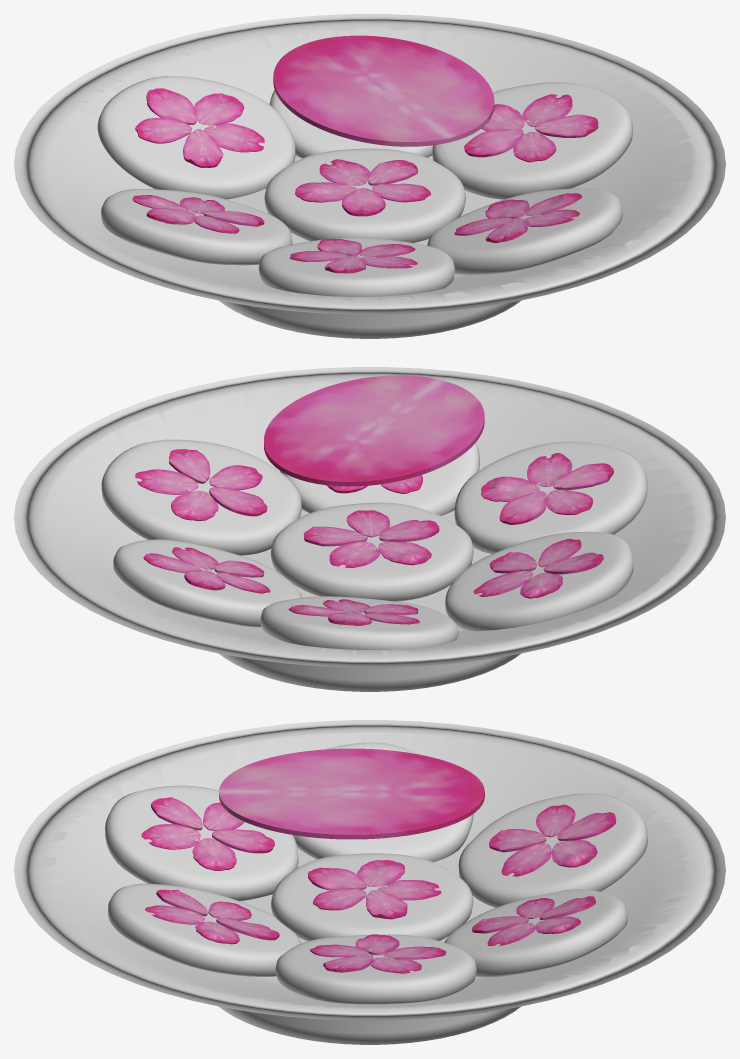
File: Jindallaejeon.fbx
3 renders of one model, top to bottom at view 1: azimuth 30°, elevation 25°; view 2: azimuth 150°, elevation 25°; view 3: azimuth 270°, elevation 25°, orthographic.
Parts seen in each view (by area): view 1: 원통 2, 원통 1, 원통 25, 원통 (×2), 원통 7, 원통 31, 원통 13, 원통 19, 원통 37, 원통 27, 원통 30, 원통 29 (+23 smaller); view 2: 원통 2, 원통 1, 원통 (×2), 원통 7, 원통 19, 원통 13, 원통 37, 원통 25, 원통 31, 원통 12, 원통 21, 원통 11 (+21 smaller); view 3: 원통 2, 원통 1, 원통 (×2), 원통 25, 원통 19, 원통 31, 원통 7, 원통 37, 원통 13, 원통 24, 원통 21, 원통 23 (+26 smaller).
Part boxes in pixels (box(x1,y1,x2,y2)): 원통 2: box(14, 14, 725, 338); 원통 1: box(273, 35, 494, 146); 원통 25: box(97, 76, 295, 199); 원통 (×2): box(264, 148, 465, 242); 원통 7: box(432, 82, 632, 199); 원통 31: box(427, 188, 622, 274); 원통 13: box(101, 189, 292, 265); 원통 19: box(258, 237, 455, 296); 원통 37: box(269, 90, 432, 158); 원통 27: box(146, 88, 196, 124); 원통 30: box(204, 123, 264, 152); 원통 29: box(194, 93, 244, 125); 원통 2: box(14, 367, 725, 691); 원통 1: box(264, 375, 484, 486); 원통 (×2): box(270, 502, 473, 601); 원통 7: box(101, 439, 301, 555); 원통 19: box(454, 441, 647, 553); 원통 13: box(445, 531, 633, 631); 원통 37: box(113, 539, 302, 627); 원통 25: box(260, 596, 458, 649); 원통 31: box(280, 442, 479, 515); 원통 12: box(135, 469, 198, 494); 원통 21: box(499, 491, 546, 524); 원통 11: box(171, 491, 218, 520); 원통 2: box(14, 720, 725, 1044); 원통 1: box(219, 748, 484, 839); 원통 (×2): box(271, 853, 473, 941); 원통 25: box(458, 793, 647, 907); 원통 19: box(105, 785, 298, 901); 원통 31: box(108, 883, 300, 976); 원통 7: box(275, 934, 476, 1004); 원통 37: box(444, 889, 627, 977); 원통 13: box(293, 742, 473, 862); 원통 24: box(141, 824, 200, 849); 원통 21: box(212, 829, 274, 853); 원통 23: box(192, 838, 236, 870).
Bounding box in the file's own units: 2.67 × 0.7595 × 2.68.
